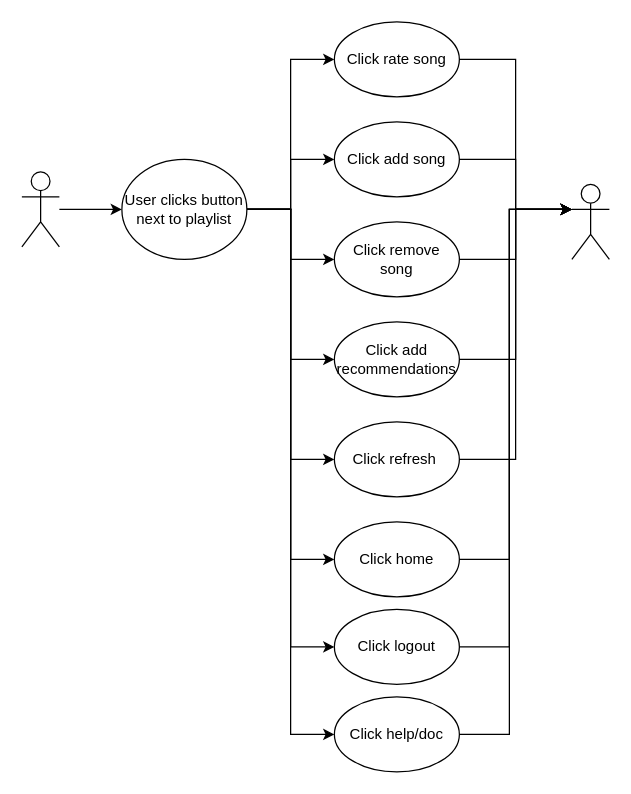
This 631x794 diagram has some shape labels left out. Each missing label, with the box of its shape:
GUI: (571, 183, 609, 259)
User: (21, 171, 59, 247)
